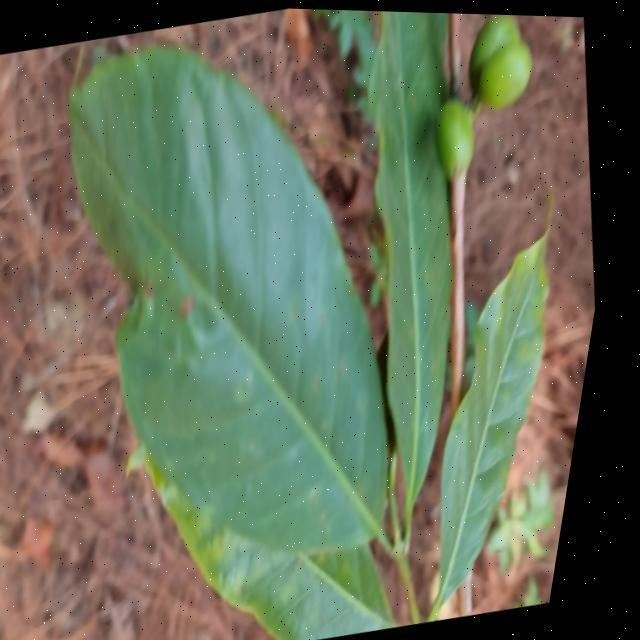leaves: (47, 16, 417, 590)
